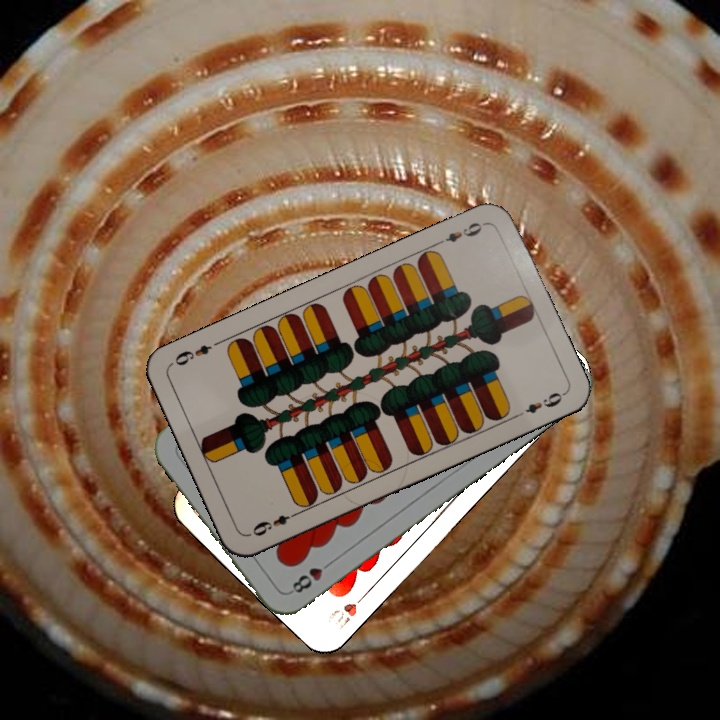E9: (433, 217, 490, 248), (245, 508, 301, 539)
H10: (324, 586, 372, 634)
H8: (285, 556, 336, 596)
